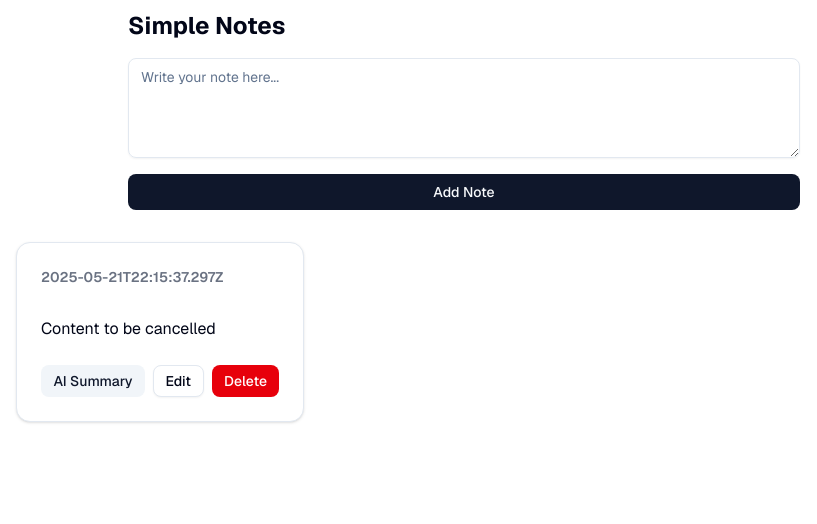
Test: Home Page Integration Tests › allows user to cancel editing a note
This screenshot has width=817, height=524.
Expected: the text "Content to be cancelled" is shown, [41,318,216,339]
# Start editing
Click the button "Edit": (178, 381) [153,365,204,397]
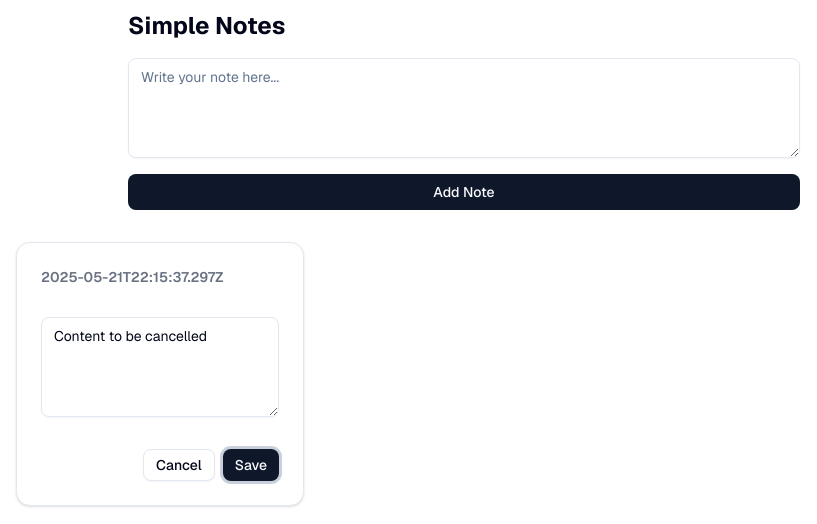
In the text box showing "Content to be cancelled": (160, 367) [41,317,279,417], type " - trying to change this"
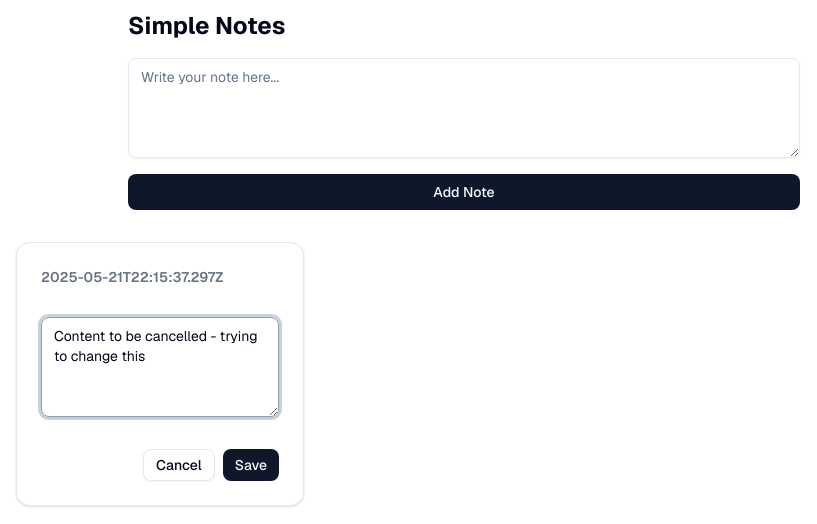
# Click Cancel
Click the button "Cancel": (179, 465) [143,449,215,481]
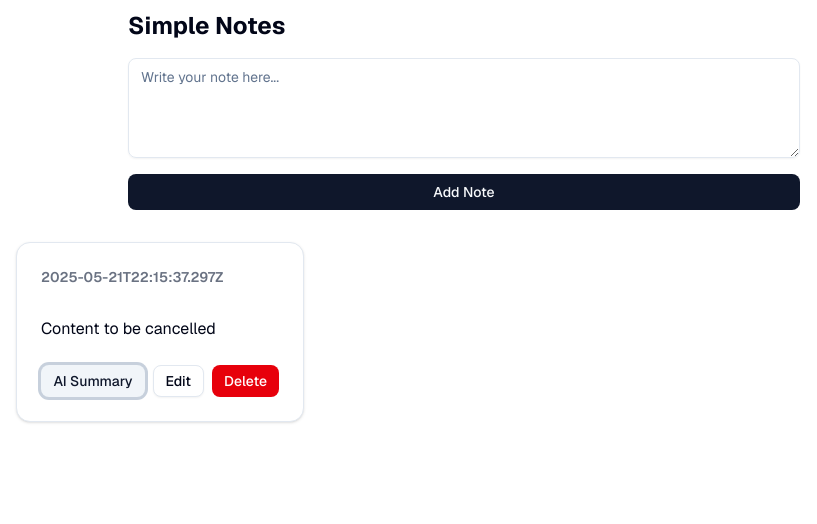
Expected: the text "Content to be cancelled" is shown, [41,318,216,339]
